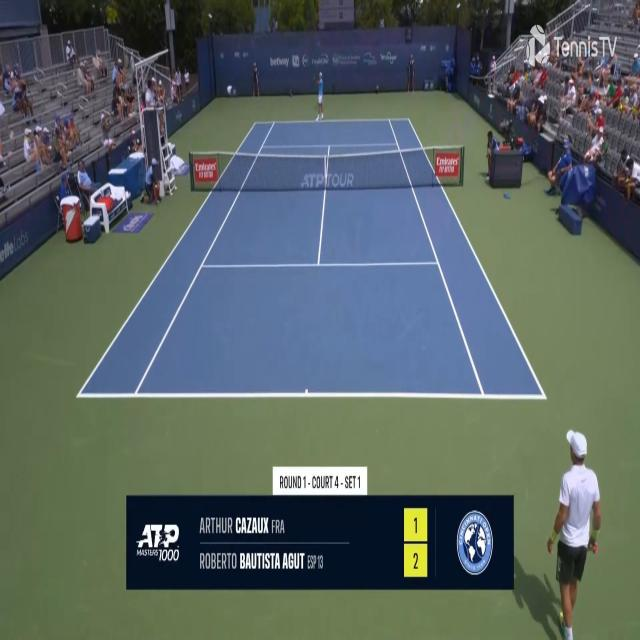tennis-player: (538, 427, 602, 638), (314, 70, 326, 123)
